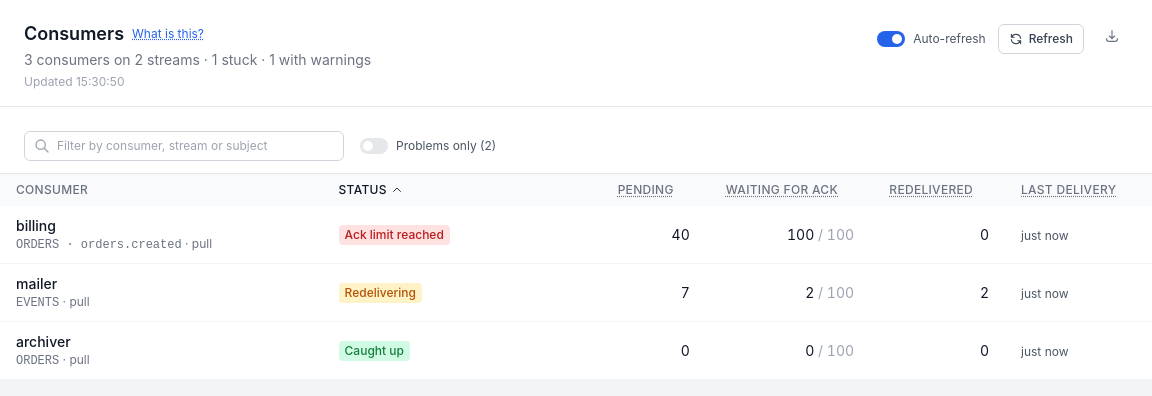
Test case: ConsumersPage › filters by text and by problems
The image size is (1152, 396).
Check: the text "billing" is shown, box [16,217,56,234]
Click the switch labelled "Problems only (2)" at [428, 146], box [360,138,496,154]
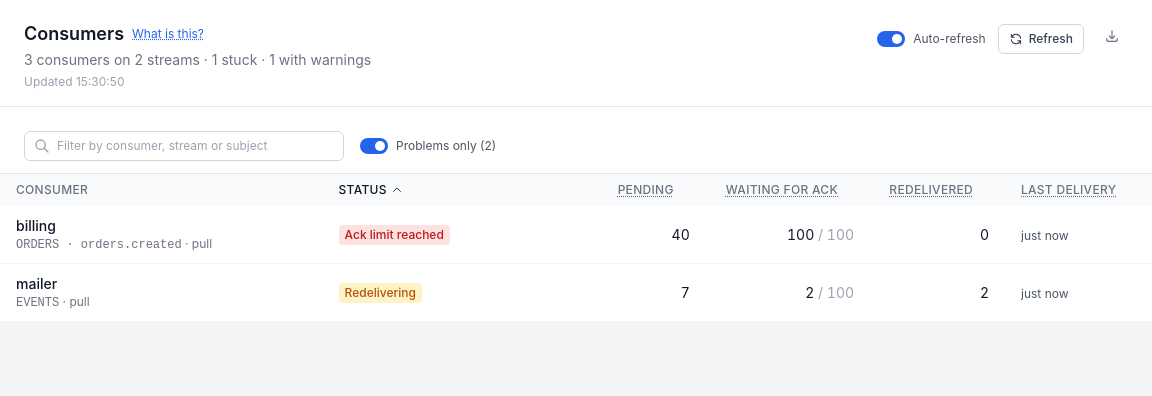
Check: the text "mailer" is shown, box [16,275,57,292]
Check: the link "archiver" is gone
Type "orders.created" into the field with placeholder "Filter by consumer, stream or subject" at [184, 146], box [24,131,344,161]
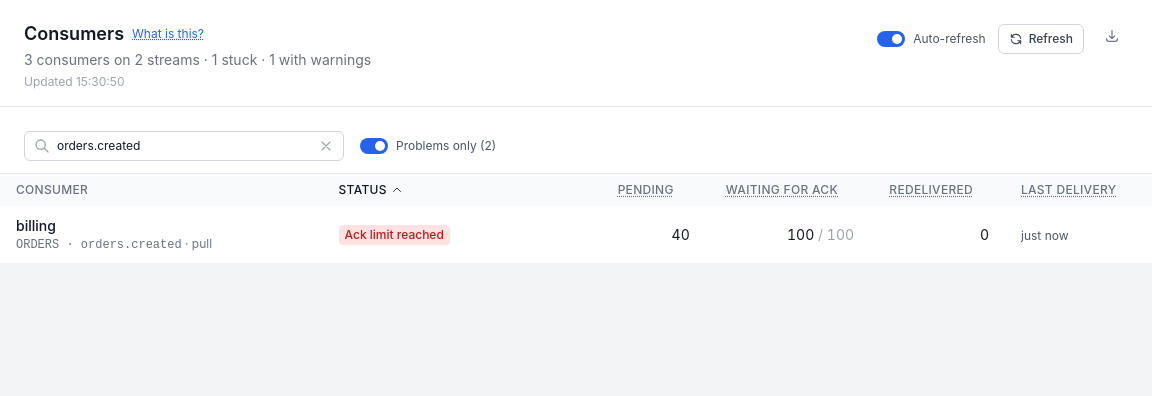
Check: the text "billing" is shown, box [16,217,56,234]
Check: the link "mailer" is gone
